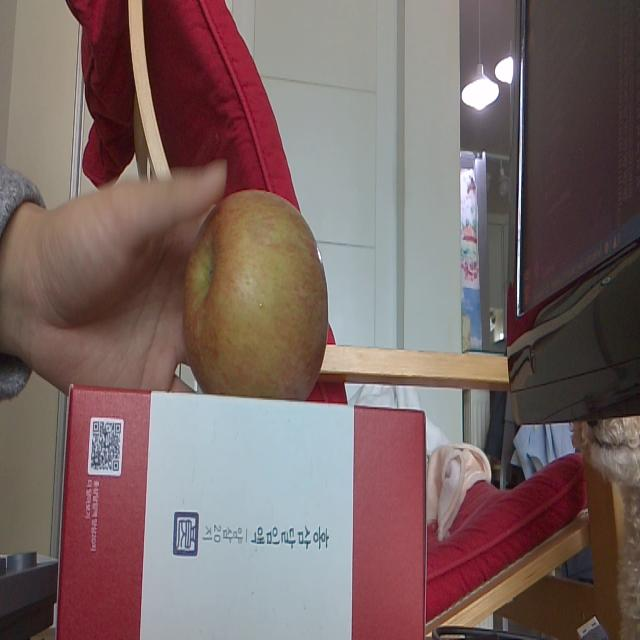apple: (181, 188, 327, 396)
